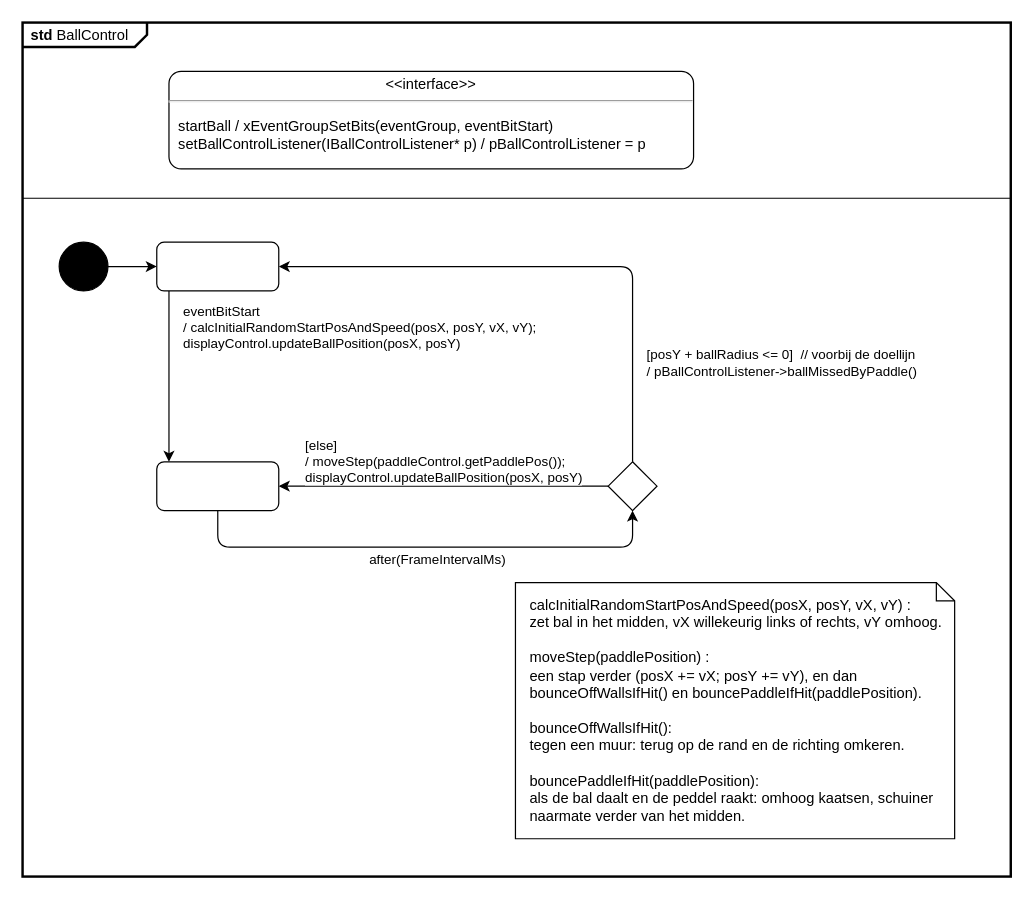
Some shapes in this 1032 by 898 pixel diagram are drawn without their labels. Here are the shapes that lost their labels. From the top down, the box of each, then its label:
(156, 241, 279, 291): Stopped
(156, 461, 279, 511): Running
